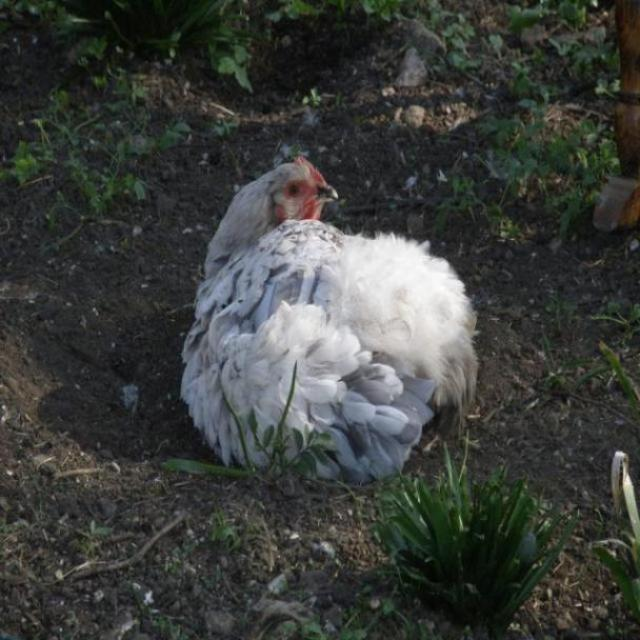Chicken: (187, 144, 461, 493)
